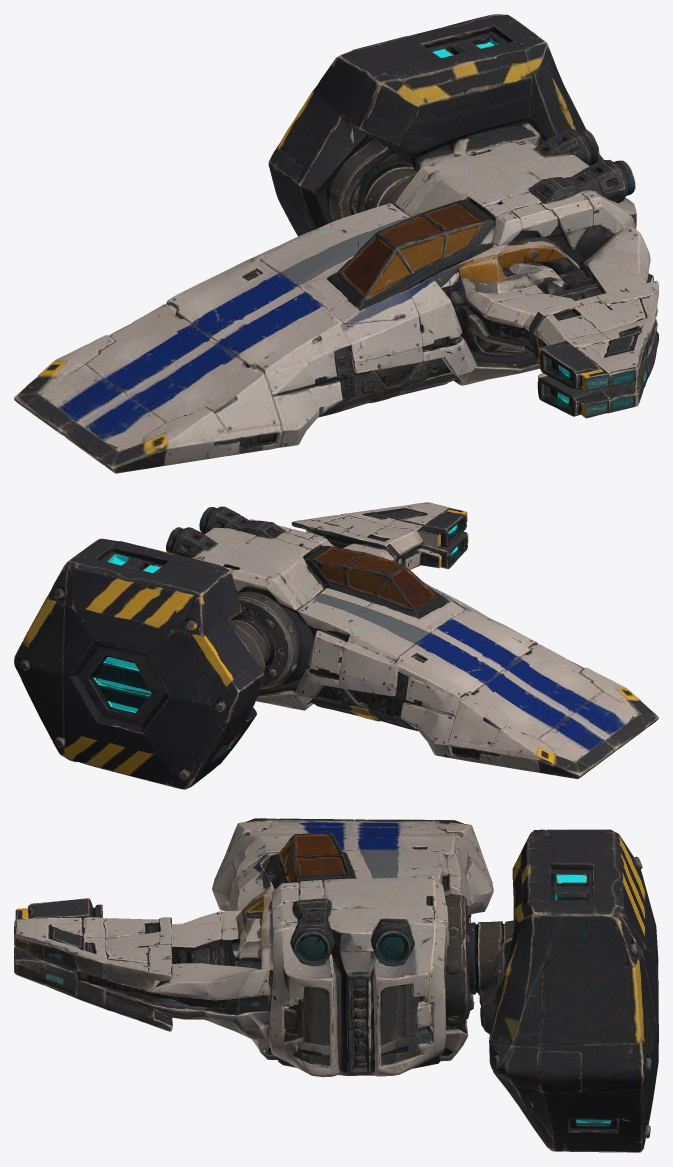
Rendered from ballast.glb.
The picture shows the model from 3 angles, top to bottom: view 1: azimuth 30°, elevation 25°; view 2: azimuth 150°, elevation 25°; view 3: azimuth 270°, elevation 25°; orthographic projection. The views are drawn at different scales.
Bounding box in the file's own units: 1.9 × 0.7015 × 1.65.
Materials: 1 (1 with a texture image).
